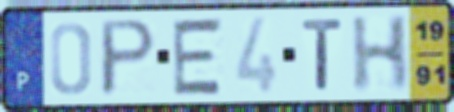0: (48, 20, 94, 97)
4: (233, 15, 280, 96)
E: (170, 15, 226, 98)
H: (349, 12, 412, 95)
P: (98, 16, 160, 100)
T: (300, 16, 346, 92)
